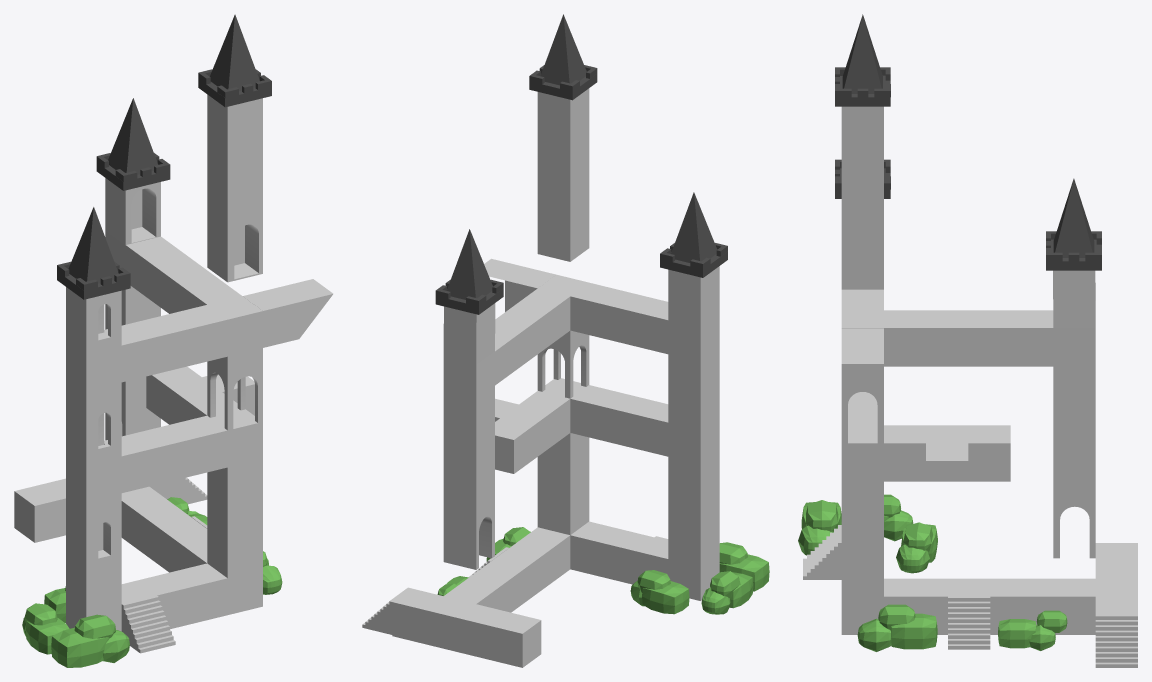
Rendered from wow1.FBX.
3 views of the same model, side by side, from view 1: azimuth 30°, elevation 25°; view 2: azimuth 150°, elevation 25°; view 3: azimuth 270°, elevation 25° (orthographic). The views are drawn at different scales.
Visible parts, largest first — view 1: Box130, Object001, Box141, Box133, Box132, Box136, Object003, Object002, Box153, Object005, Box139, Object004 (+3 smaller); view 2: Box130, Object001, Box141, Box132, Box133, Object003, Object002, Object004, Box140, Box139, Object005, Box136 (+1 smaller); view 3: Box130, Box141, Box132, Box138, Object002, Object003, Box151, Box152, Box137, Box140, Box136, Box153 (+4 smaller).
Part boxes in pixels (bbox=[...]): Box130: bbox=[14, 94, 333, 629]; Object001: bbox=[66, 287, 121, 631]; Box141: bbox=[96, 98, 170, 190]; Box133: bbox=[57, 207, 130, 299]; Box132: bbox=[198, 14, 271, 107]; Box136: bbox=[51, 614, 129, 667]; Object003: bbox=[207, 213, 262, 282]; Object002: bbox=[105, 178, 160, 244]; Box153: bbox=[121, 595, 175, 653]; Object005: bbox=[207, 363, 262, 430]; Box139: bbox=[22, 603, 69, 654]; Object004: bbox=[105, 408, 160, 440]; Box130: bbox=[392, 88, 668, 667]; Object001: bbox=[668, 266, 719, 600]; Box141: bbox=[435, 229, 503, 314]; Box132: bbox=[529, 14, 597, 100]; Box133: bbox=[660, 192, 727, 277]; Object003: bbox=[537, 198, 589, 261]; Object002: bbox=[443, 303, 495, 364]; Object004: bbox=[443, 507, 494, 569]; Box140: bbox=[630, 570, 689, 614]; Box139: bbox=[701, 571, 753, 614]; Object005: bbox=[537, 336, 589, 398]; Box136: bbox=[719, 542, 769, 591]; Box130: bbox=[841, 106, 1137, 634]; Box141: bbox=[1046, 178, 1101, 270]; Box132: bbox=[835, 14, 890, 106]; Box138: bbox=[857, 604, 937, 651]; Object002: bbox=[1053, 270, 1095, 327]; Object003: bbox=[841, 233, 883, 289]; Box151: bbox=[948, 596, 990, 649]; Box152: bbox=[1095, 614, 1137, 667]; Box137: bbox=[998, 610, 1067, 650]; Box140: bbox=[896, 522, 937, 573]; Box136: bbox=[798, 500, 841, 555]; Box153: bbox=[803, 525, 841, 579].
Size of the model in its own units: 8.15 by 16.13 by 8.03.
